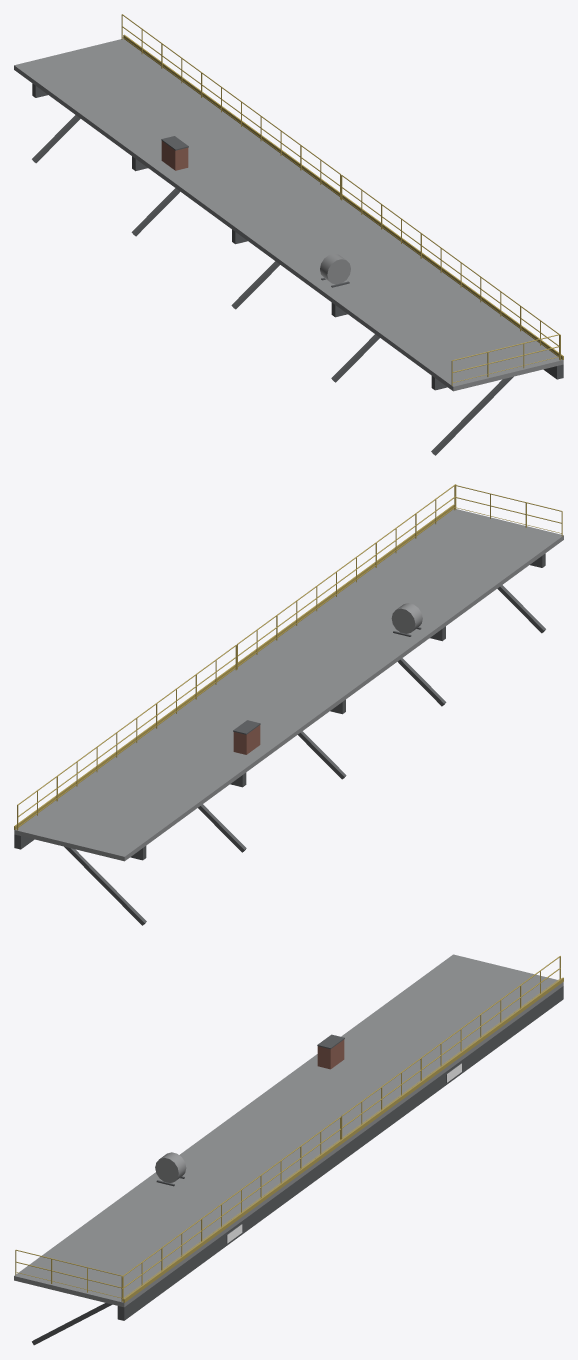
The model's file is plat_w4.glb.
The picture shows the model from 3 angles, top to bottom: view 1: azimuth 30°, elevation 25°; view 2: azimuth 150°, elevation 25°; view 3: azimuth 330°, elevation 25°; orthographic projection.
Parts seen in each view (by area): view 1: plat_w4; view 2: plat_w4; view 3: plat_w4.
Part boxes in pixels (x1,y1,x2,y2): plat_w4: (14, 14, 563, 455); plat_w4: (14, 484, 563, 925); plat_w4: (14, 954, 563, 1345).
Bounding box in the file's own units: 5.18 × 4.79 × 35.2.
